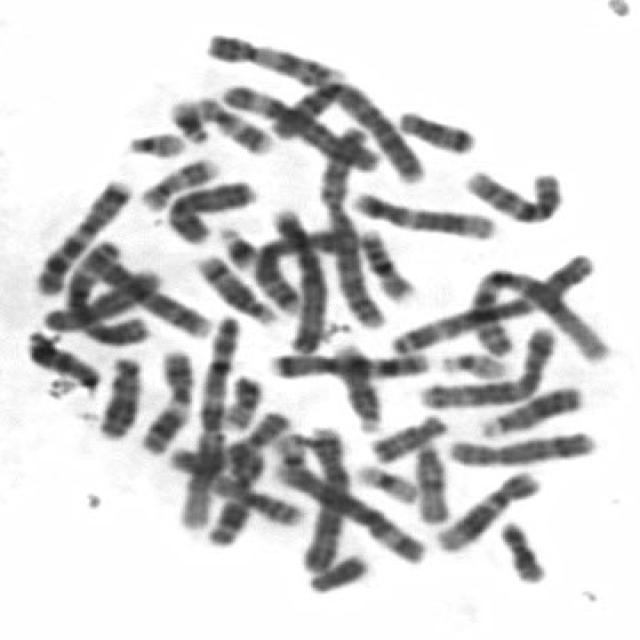A1: (458, 258, 612, 365), (170, 308, 243, 532)
A2: (266, 66, 428, 188), (315, 114, 391, 330)
A3: (379, 248, 599, 357), (55, 234, 157, 350)
B4: (258, 203, 330, 355), (293, 418, 352, 572)
B5: (411, 320, 558, 409), (245, 222, 361, 320)
C10: (162, 406, 292, 480), (452, 160, 566, 228)
C11: (197, 440, 267, 549), (134, 342, 198, 456)
C12: (430, 462, 546, 554), (345, 183, 501, 242)
C6: (272, 447, 432, 566), (212, 76, 386, 175)
C7: (28, 170, 138, 298), (261, 343, 434, 381)
C8: (32, 261, 164, 334), (441, 422, 603, 468)
C9: (66, 237, 220, 341), (198, 26, 348, 86)
D13: (473, 376, 588, 438), (90, 349, 148, 441)
D14: (187, 248, 281, 326), (327, 336, 388, 434)
D15: (20, 324, 103, 396), (407, 435, 455, 526)
E16: (212, 471, 308, 532), (350, 222, 414, 301)
E17: (185, 88, 277, 157), (133, 150, 224, 213)
E18: (362, 407, 452, 464), (389, 102, 480, 156)
F19: (348, 455, 422, 506), (265, 426, 311, 486)
F20: (496, 522, 548, 581), (217, 368, 265, 431)
G21: (160, 90, 213, 146), (211, 219, 265, 271)
G22: (432, 344, 510, 380), (118, 124, 190, 159)
X: (160, 172, 261, 246)
Y: (299, 545, 373, 595)
